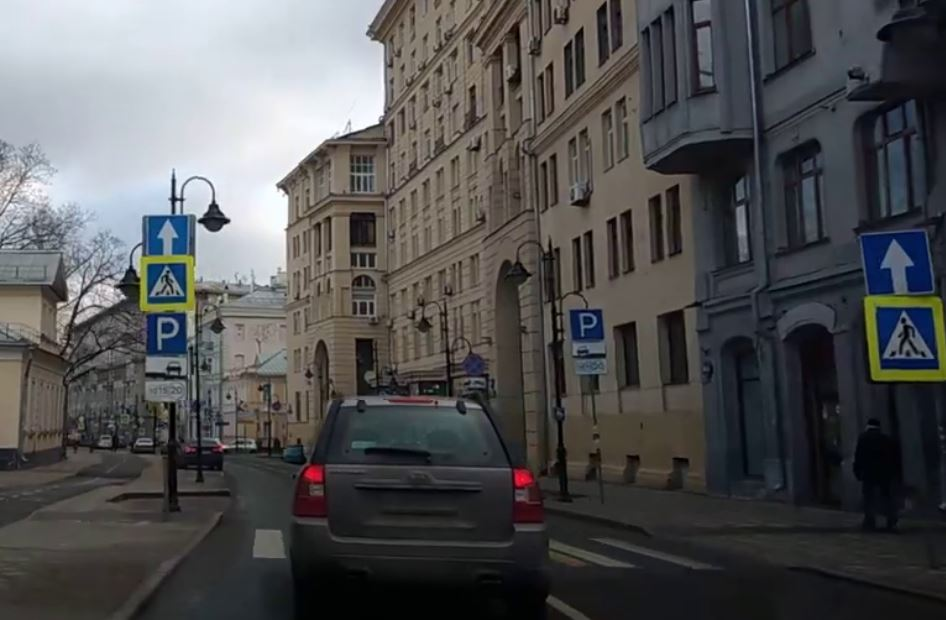Yaya Gecidi: (877, 308, 939, 370), (147, 264, 189, 301)
